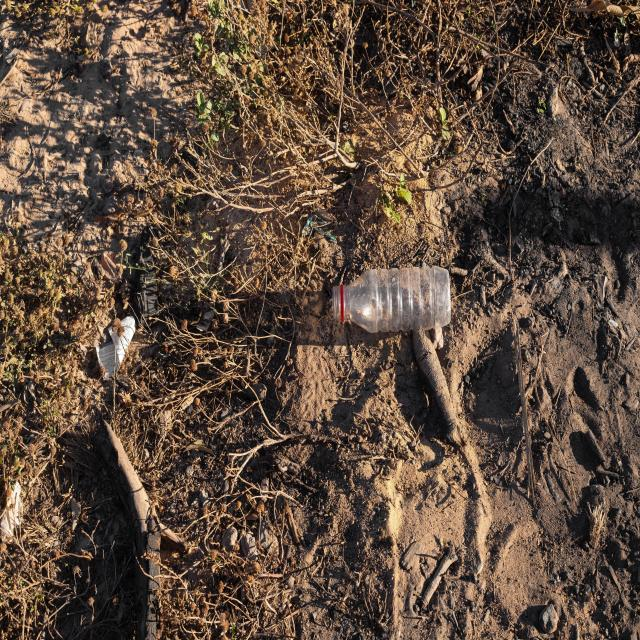bottle-plastic: (329, 261, 455, 335)
